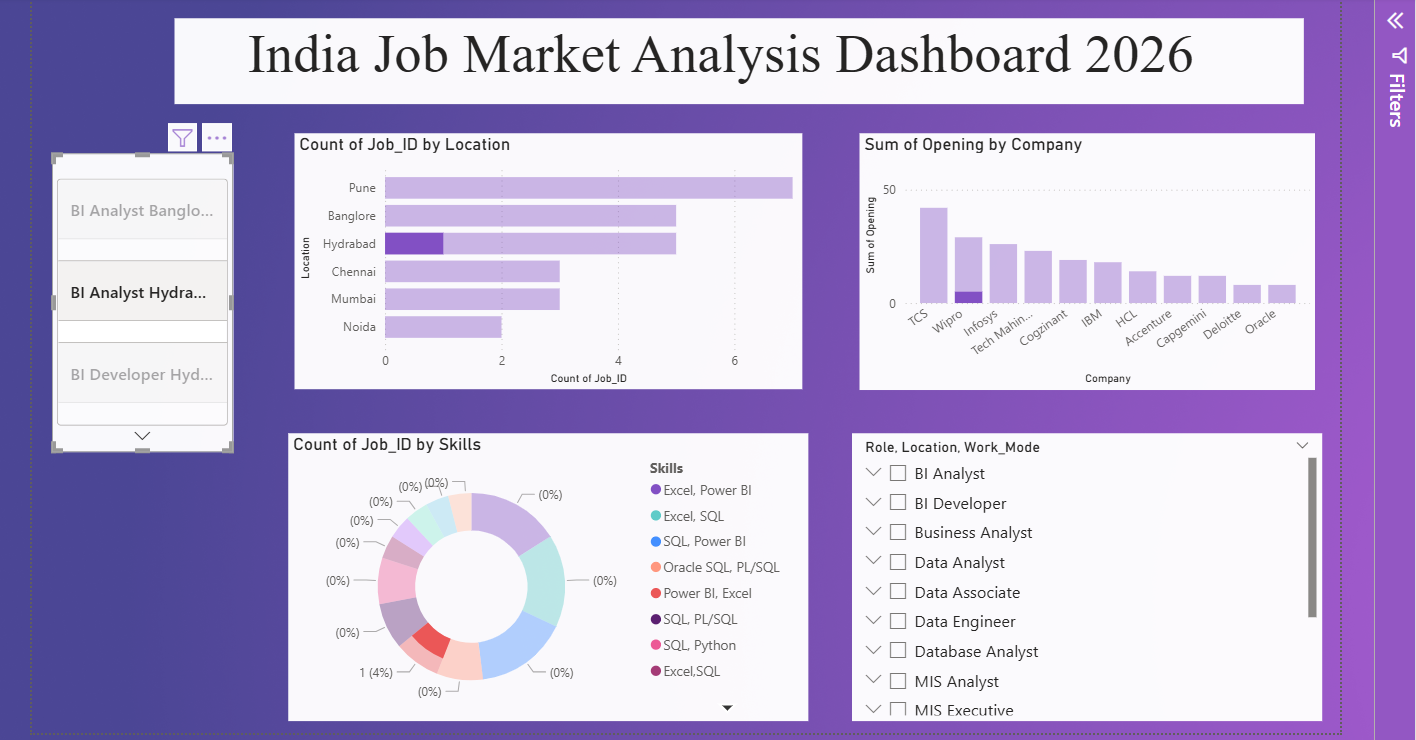

The page's visual inventory and layout, read from the dashboard file:
{"tool":"powerbi","page":{"name":"Page 1","canvas":[1280,720],"ordinal":0},"visuals":[{"type":"cardVisual","fields":{"Data":["Sum(Sheet1.Salary_LPA)","Sum(Sheet1.Opening)","CountNonNull(Sheet1.Job_ID)","Sheet1.Average Salary"],"Rows":["Sheet1.Role","Sheet1.Location","Sheet1.Skills","Sheet1.Role","Sheet1.Experience","Sheet1.Company","Sheet1.Work_Mode"]},"box":[0,237.2,212.8,292.3],"z":0},{"type":"clusteredBarChart","fields":{"Category":["Sheet1.Location"],"Y":["CountNonNull(Sheet1.Job_ID)"]},"box":[256.8,133.3,496.5,250.7],"z":1000},{"type":"donutChart","fields":{"Category":["Sheet1.Skills"],"Y":["CountNonNull(Sheet1.Job_ID)"]},"box":[250.7,426.8,508.7,281.3],"z":2000},{"type":"columnChart","fields":{"Category":["Sheet1.Company"],"Y":["Sum(Sheet1.Opening)"]},"box":[809.6,133.1,446,251.1],"z":3000},{"type":"slicer","fields":{"Values":["Sheet1.Company","Sheet1.Experience","Sheet1.Job_ID","Sheet1.Location","Sheet1.Opening","Sheet1.Role","Sheet1.Salary_LPA","Sheet1.Skills","Sheet1.Work_Mode"]},"box":[802.2,426.8,459.8,281.3],"z":4000},{"type":"textbox","box":[140,20.6,1104.6,83.7],"z":5000}]}

Visuals, with their boxes in screenshot pixels (x1, y1, x2, y2):
cardVisual - Sum(Sheet1.Salary_LPA) x Sum(Sheet1.Opening): <region>33, 237, 249, 534</region>
clusteredBarChart - Sheet1.Location x CountNonNull(Sheet1.Job_ID): <region>294, 132, 798, 386</region>
donutChart - Sheet1.Skills x CountNonNull(Sheet1.Job_ID): <region>288, 430, 804, 715</region>
columnChart - Sheet1.Company x Sum(Sheet1.Opening): <region>855, 131, 1308, 386</region>
slicer - Sheet1.Company x Sheet1.Experience: <region>848, 430, 1314, 715</region>
textbox: <region>175, 17, 1297, 102</region>
